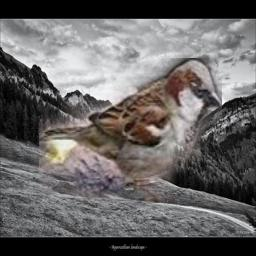Sparrow: (39, 58, 222, 203)
